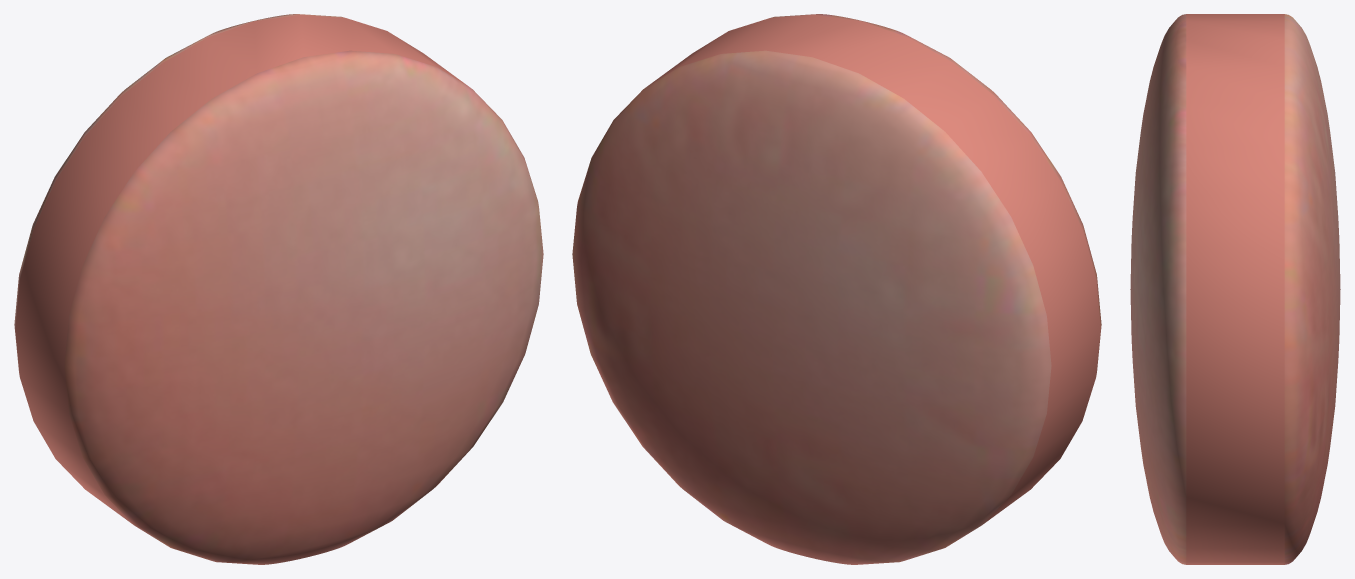
File: 20140311GOPHDRGPT02324.fbx
3 views of the same model, side by side, from view 1: azimuth 30°, elevation 25°; view 2: azimuth 150°, elevation 25°; view 3: azimuth 270°, elevation 25° (orthographic).
Visible parts, largest first — view 1: 球體.019; view 2: 球體.019; view 3: 球體.019.
Boxes of the visible parts, x1,y1,x2,y2 form: 球體.019: [14, 14, 543, 564]; 球體.019: [572, 14, 1101, 564]; 球體.019: [1130, 14, 1340, 564].
Size of the model in its own units: 0.5884 by 0.5884 by 0.2241.
